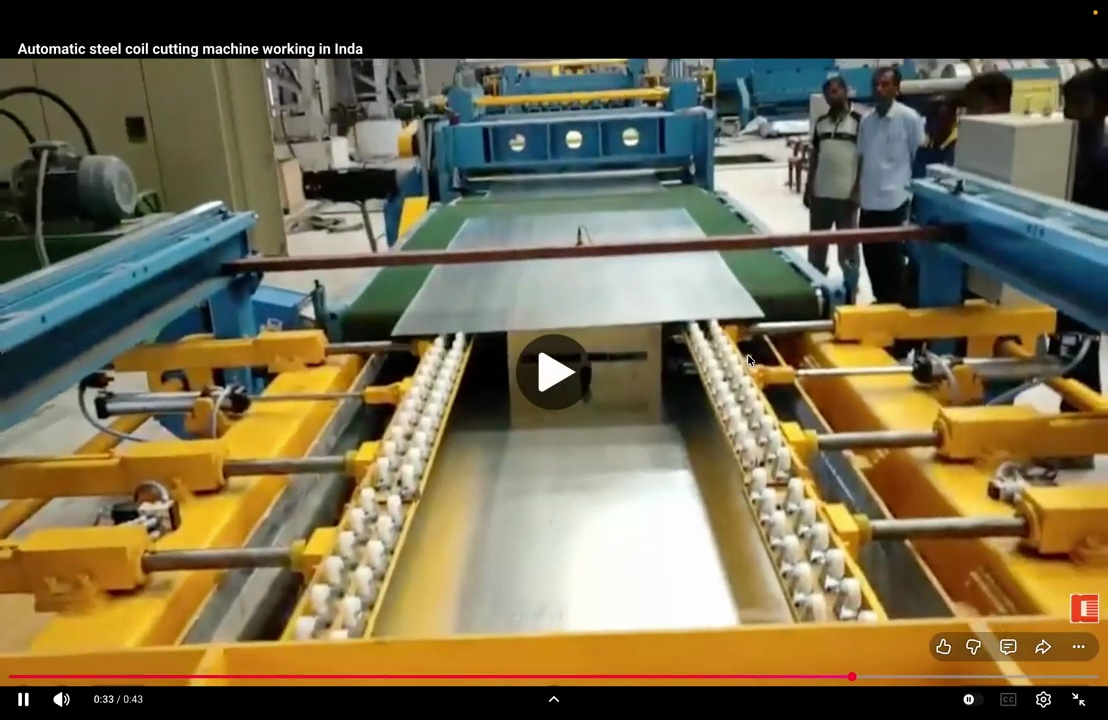steel plate: (393, 252, 762, 336), (486, 176, 662, 200)
